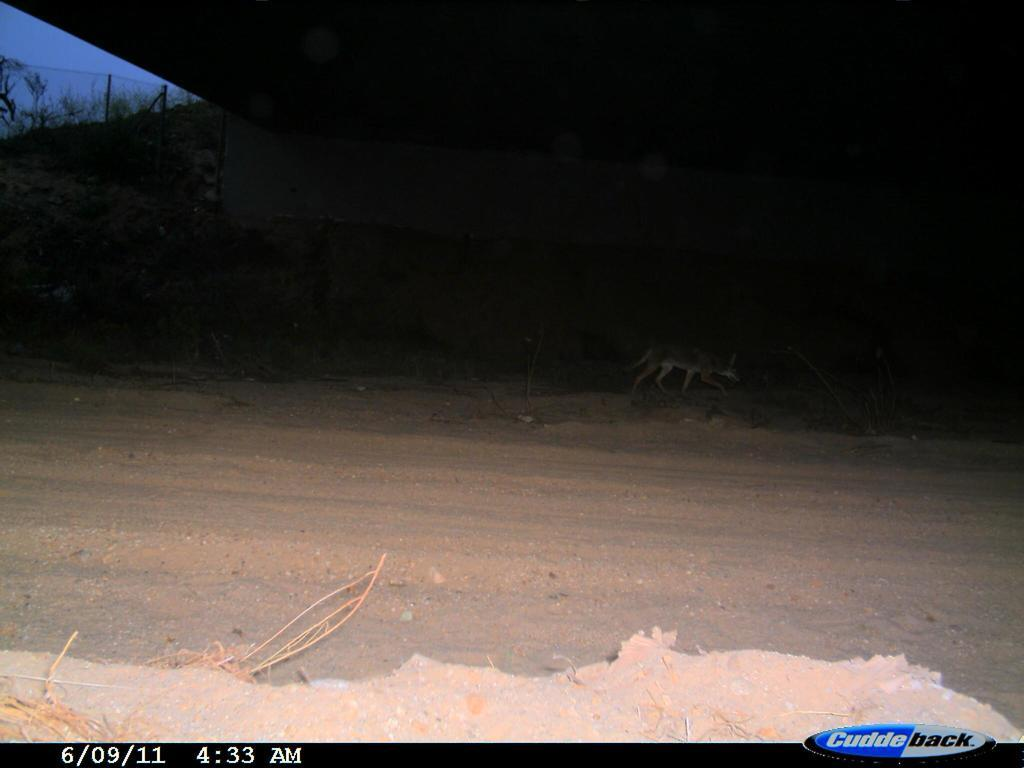coyote: (623, 340, 744, 401)
